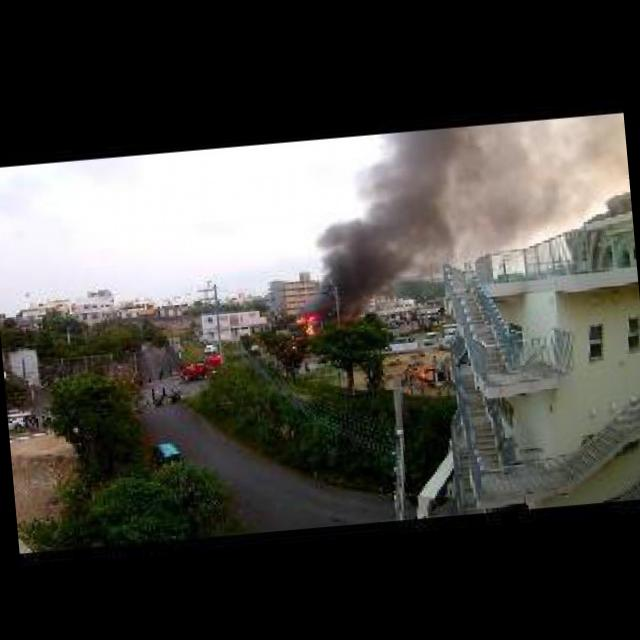fire: (296, 314, 321, 334)
smoke: (360, 110, 636, 280), (303, 196, 400, 332)
